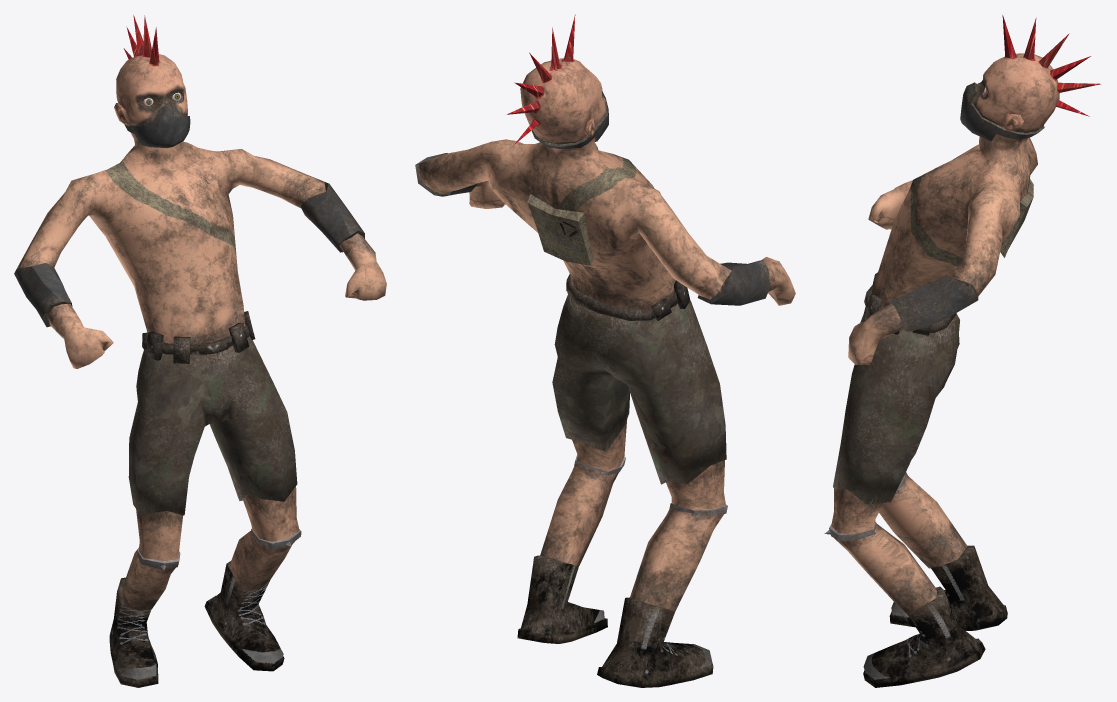
Rendered from Anim_morir_1_npc2.0015.obj.
The picture shows the model from 3 angles, left to right: view 1: azimuth 30°, elevation 25°; view 2: azimuth 150°, elevation 25°; view 3: azimuth 270°, elevation 25°; orthographic projection. The views are drawn at different scales.
Visible parts, largest first — view 1: polySurface1; view 2: polySurface1; view 3: polySurface1.
Part boxes in pixels (x1=…): polySurface1: x1=14, y1=15, x2=386, y2=687; polySurface1: x1=415, y1=14, x2=795, y2=687; polySurface1: x1=824, y1=15, x2=1100, y2=687.
Bounding box in the file's own units: 4.97 × 9.43 × 3.72.
Materials: 2 (2 with a texture image).
